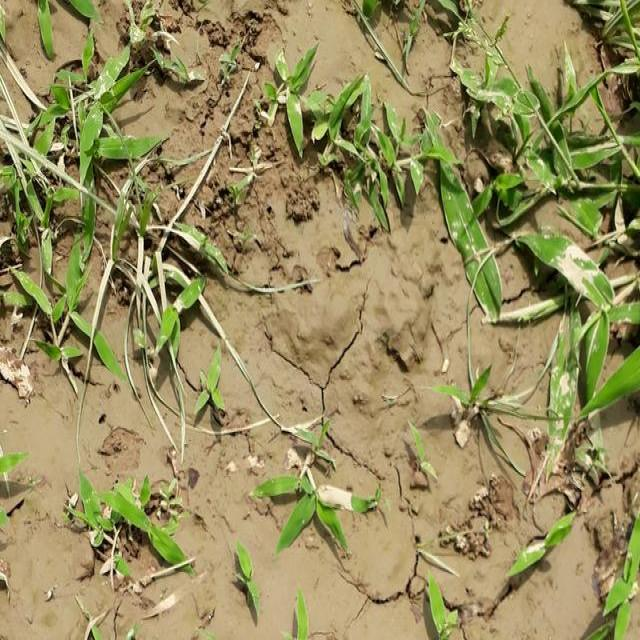weed: (205, 28, 640, 221), (0, 25, 158, 432), (466, 264, 584, 640), (252, 423, 382, 555), (66, 467, 196, 572)
